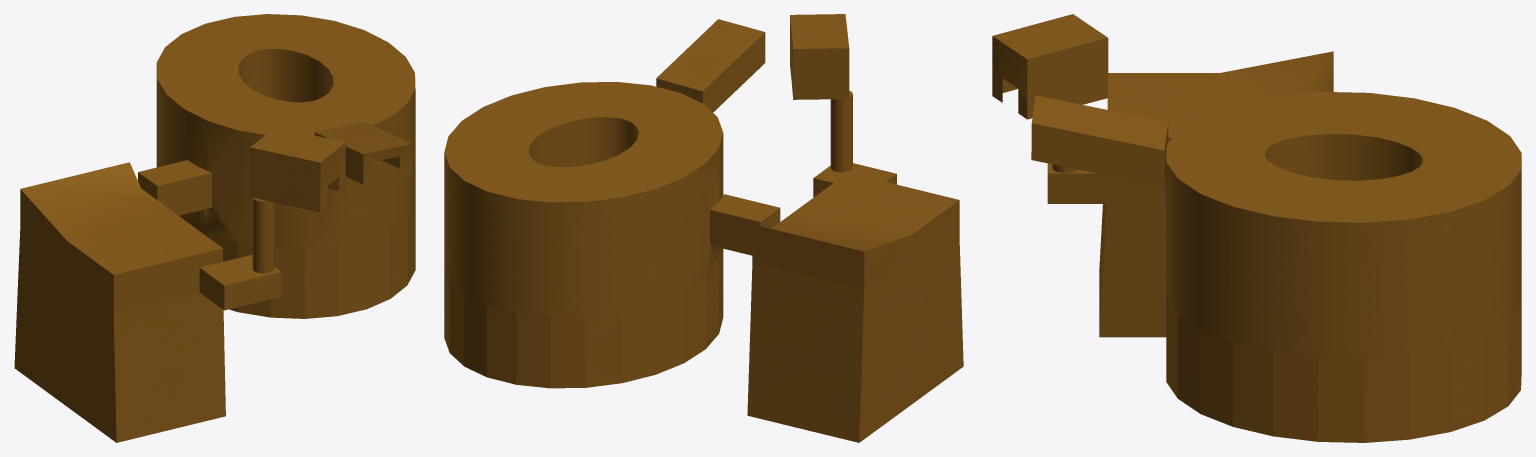
The model's file is RangedLevel_Walls.fbx.
The picture shows the model from 3 angles, left to right: view 1: azimuth 30°, elevation 25°; view 2: azimuth 150°, elevation 25°; view 3: azimuth 270°, elevation 25°; orthographic projection. The views are drawn at different scales.
Visible parts, largest first — view 1: RangedLevel_Walls; view 2: RangedLevel_Walls; view 3: RangedLevel_Walls.
Boxes of the visible parts, left/top/right/bottom form: RangedLevel_Walls: left=14, top=14, right=415, bottom=442; RangedLevel_Walls: left=444, top=14, right=963, bottom=442; RangedLevel_Walls: left=992, top=14, right=1521, bottom=442.
Bounding box in the file's own units: 8020 × 5498 × 7960.
Materials: 1 (1 with a texture image).
